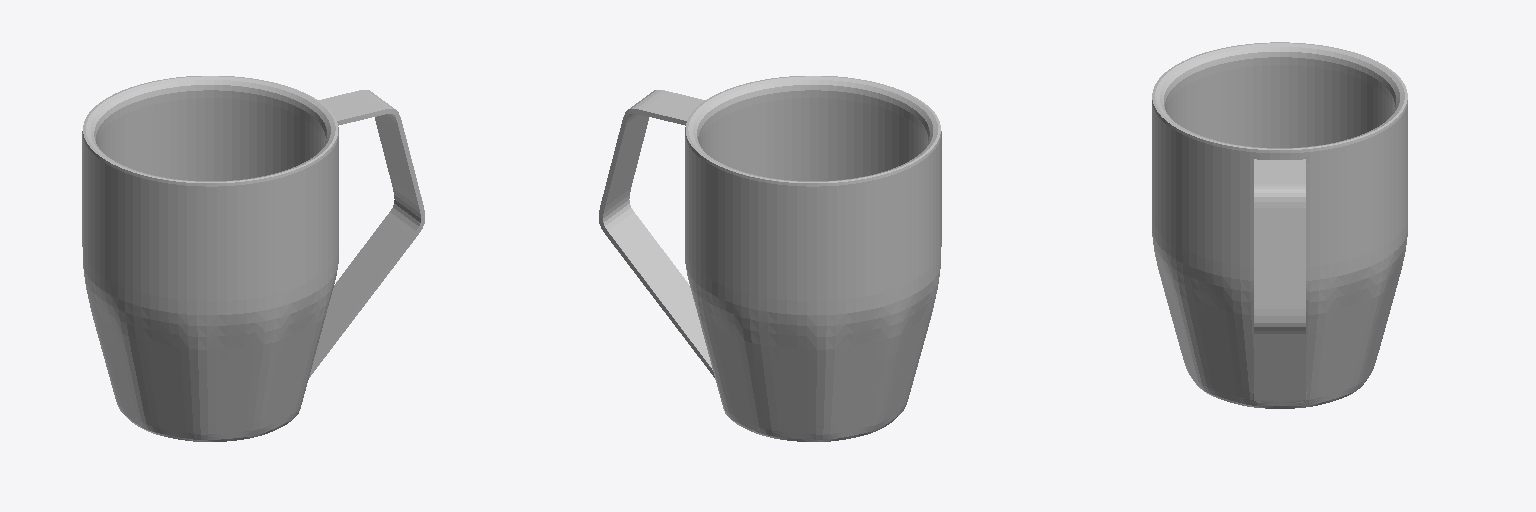
The model's file is mug-042.obj.
3 renders of one model, left to right at view 1: azimuth 30°, elevation 25°; view 2: azimuth 150°, elevation 25°; view 3: azimuth 270°, elevation 25°, orthographic.
Visible parts, largest first — view 1: mug; view 2: mug; view 3: mug.
Boxes of the visible parts, x1=… form: mug: x1=82, y1=76, x2=424, y2=441; mug: x1=599, y1=76, x2=941, y2=441; mug: x1=1152, y1=42, x2=1407, y2=408.
Size of the model in its own units: 0.1234 by 0.104 by 0.0877.